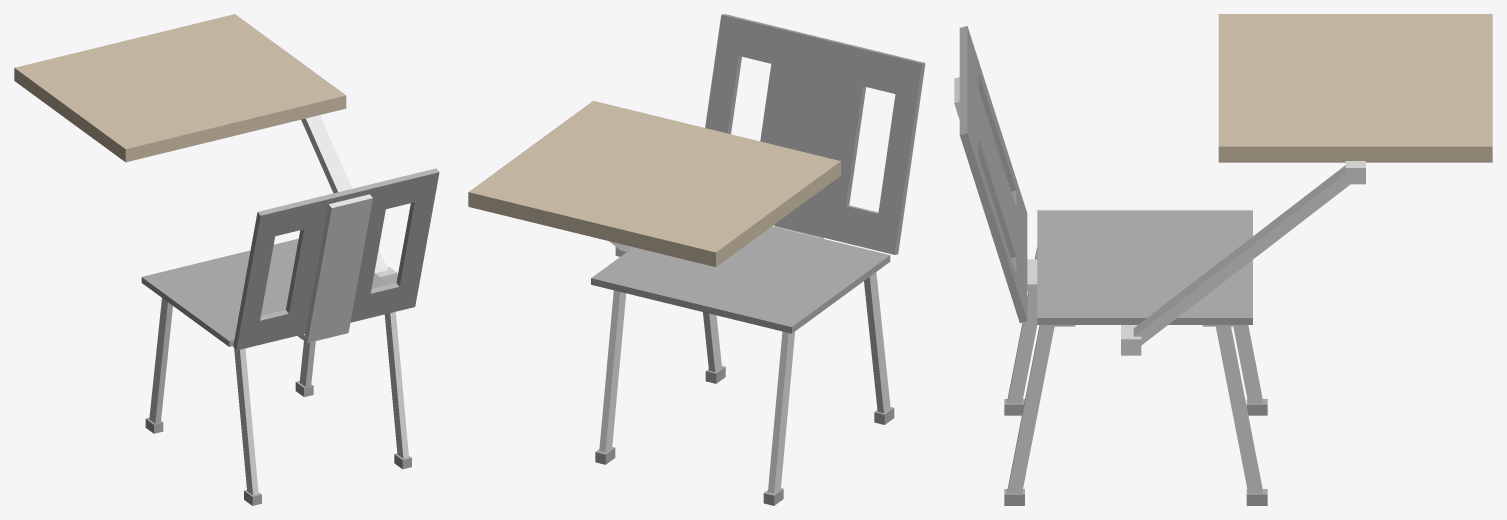
Rendered from chair1.fbx.
3 renders of one model, left to right at view 1: azimuth 30°, elevation 25°; view 2: azimuth 150°, elevation 25°; view 3: azimuth 270°, elevation 25°, orthographic. The views are drawn at different scales.
Parts seen in each view (by area): view 1: Cube_12; view 2: Cube_12; view 3: Cube_12.
Boxes of the visible parts, bbox=[...] form: Cube_12: bbox=[14, 14, 439, 505]; Cube_12: bbox=[468, 14, 925, 505]; Cube_12: bbox=[954, 14, 1492, 505].
Bounding box in the file's own units: 79.68 × 101 × 130.
